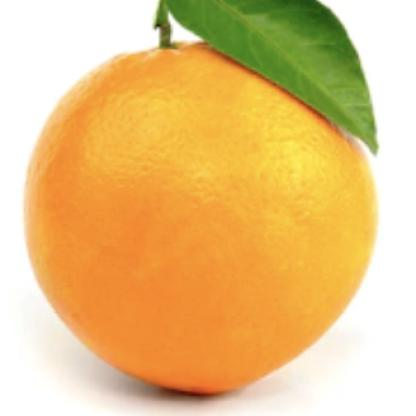fresh: (23, 41, 375, 395)
